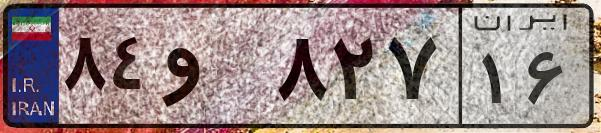1: (475, 38, 525, 113)
2: (330, 28, 385, 110)
4: (110, 28, 158, 98)
6: (525, 38, 570, 115)
7: (385, 28, 445, 110)
8: (270, 28, 330, 110), (57, 26, 110, 100)
و: (158, 20, 270, 120)
